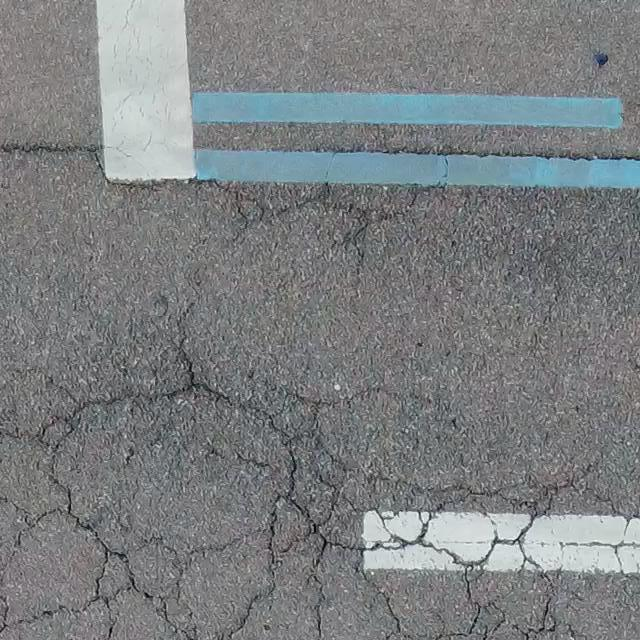GRIETA: (468, 151, 639, 164), (176, 302, 194, 375), (0, 143, 87, 153)
PIEL DE COCODRILO: (0, 373, 639, 639), (88, 129, 466, 278)
